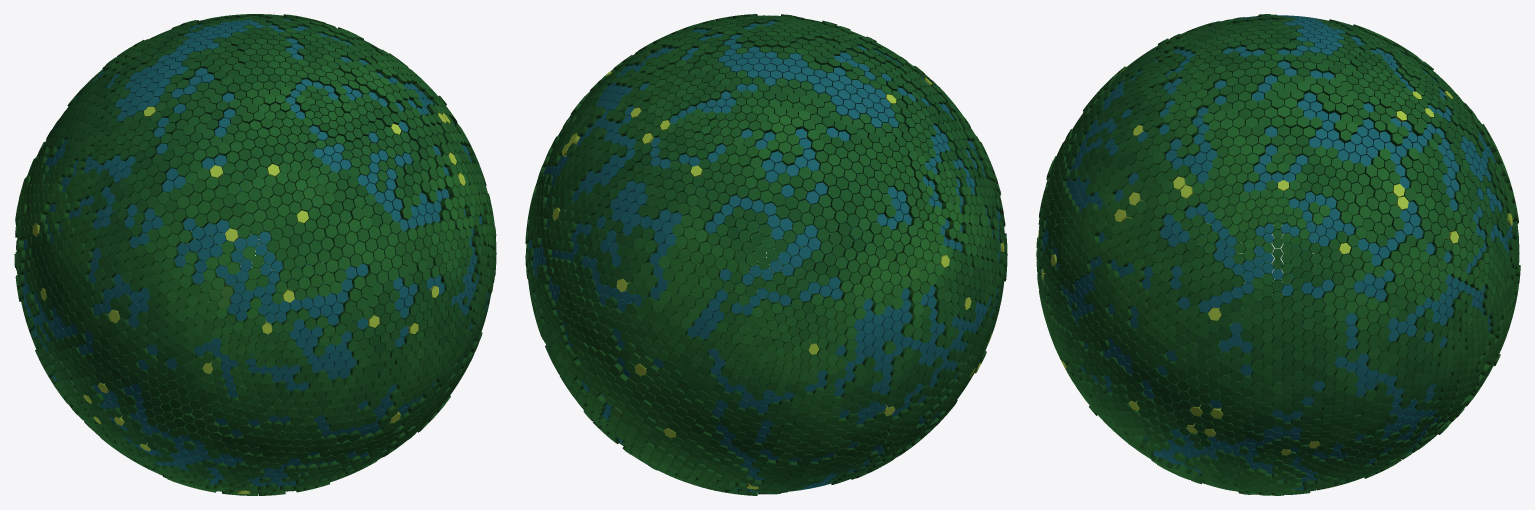
Rendered from jungle_0.glb.
The picture shows the model from 3 angles, left to right: view 1: azimuth 30°, elevation 25°; view 2: azimuth 150°, elevation 25°; view 3: azimuth 270°, elevation 25°; orthographic projection.
Parts seen in each view (by area): view 1: jungle_0; view 2: jungle_0; view 3: jungle_0.
Part boxes in pixels (left/top/right/bottom): jungle_0: left=14, top=14, right=496, bottom=495; jungle_0: left=525, top=14, right=1007, bottom=495; jungle_0: left=1036, top=14, right=1520, bottom=495.
Size of the model in its own units: 2.02 by 2.02 by 2.03.
